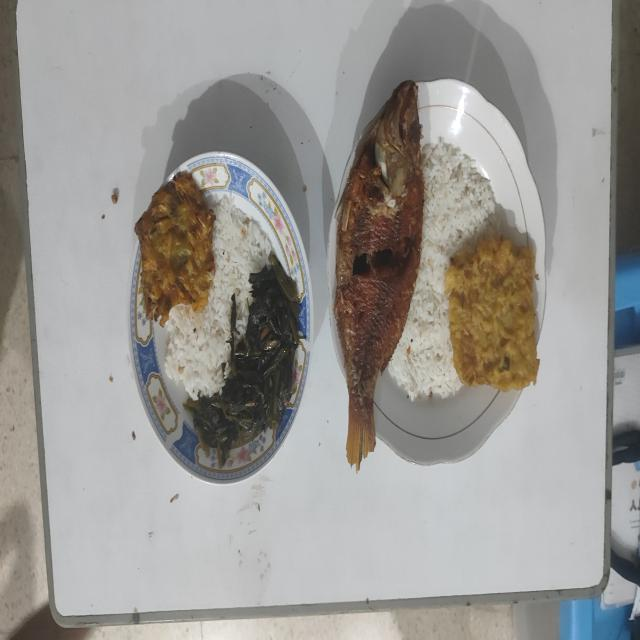ikan_mujair: (334, 80, 425, 470)
nasi_putih: (388, 140, 495, 400), (164, 197, 270, 400)
tumis_kangkung: (185, 253, 302, 467)
